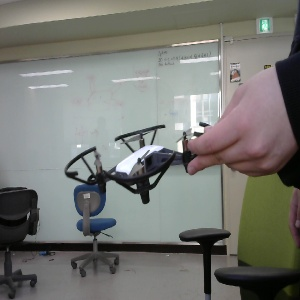Drone: (61, 125, 206, 202)
